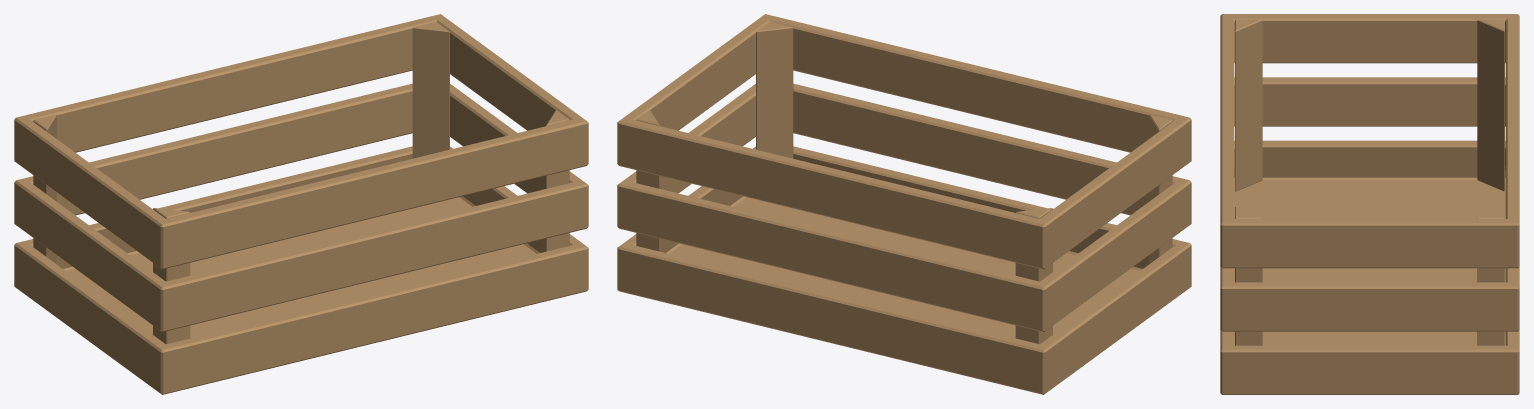
File: tmp_basket.fbx
3 views of the same model, side by side, from view 1: azimuth 30°, elevation 25°; view 2: azimuth 150°, elevation 25°; view 3: azimuth 270°, elevation 25° (orthographic).
Visible parts, largest first — view 1: Plane, Plane.002; view 2: Plane, Plane.002; view 3: Plane, Plane.002.
Part boxes in pixels (left/top/right/bottom): Plane: left=14, top=14, right=588, bottom=394; Plane.002: left=33, top=22, right=569, bottom=344; Plane: left=617, top=14, right=1191, bottom=394; Plane.002: left=636, top=22, right=1172, bottom=344; Plane: left=1220, top=14, right=1519, bottom=394; Plane.002: left=1235, top=19, right=1504, bottom=345.
Size of the model in its own units: 50 by 19 by 30.
